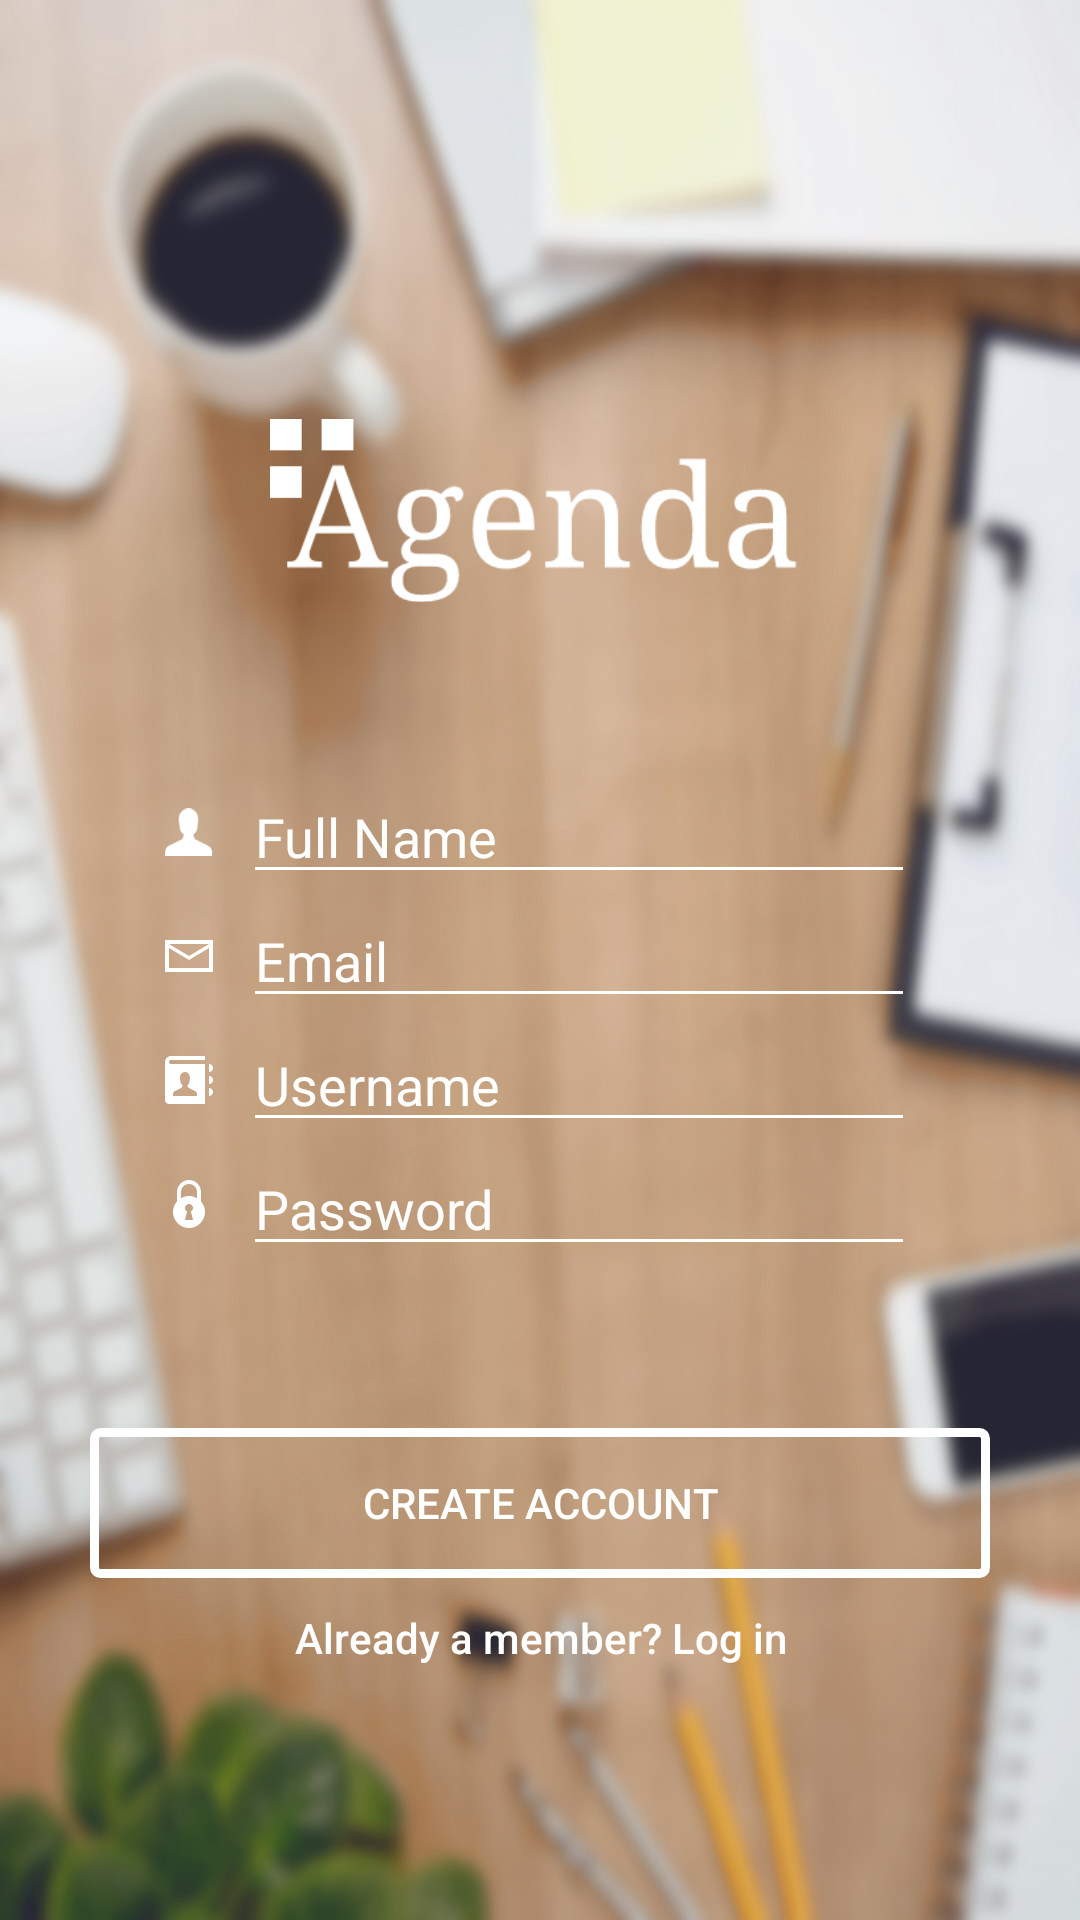

Named icons in this screenshot (1080 × 1920) and their bounding boxes, {"left": x1, "top": y1, "right": x2, "bottom": y2}:
profile: {"left": 165, "top": 808, "right": 212, "bottom": 856}
